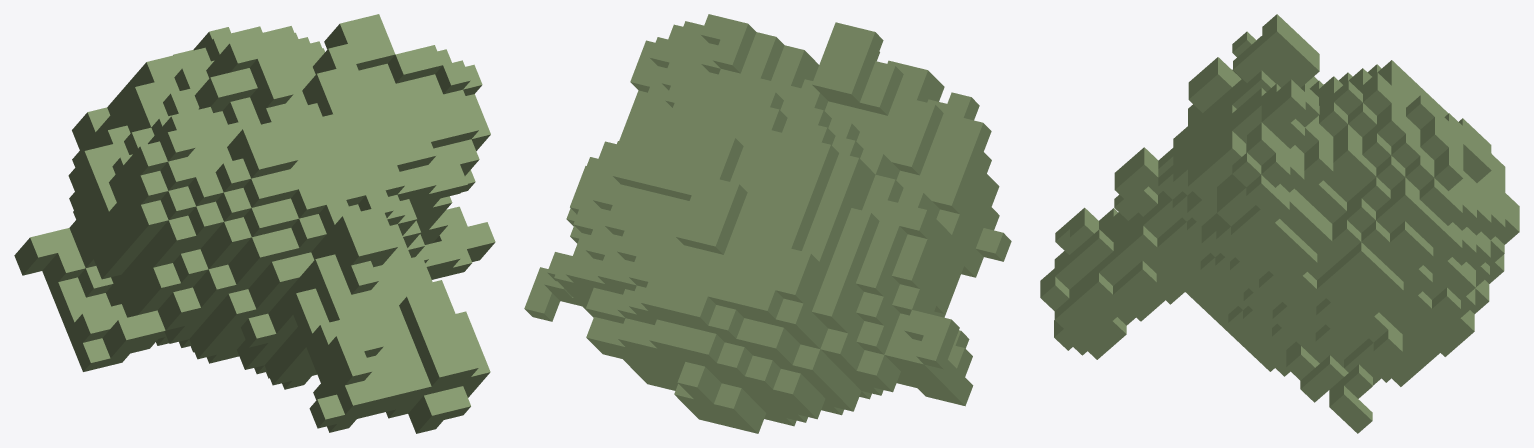
File: monkey.glb
3 renders of one model, left to right at view 1: azimuth 30°, elevation 25°; view 2: azimuth 150°, elevation 25°; view 3: azimuth 270°, elevation 25°, orthographic. The views are drawn at different scales.
Parts seen in each view (by area): view 1: Suzanne; view 2: Suzanne; view 3: Suzanne.
Boxes of the visible parts, x1,y1,x2,y2 form: Suzanne: (14, 14, 495, 433); Suzanne: (524, 14, 1011, 433); Suzanne: (1040, 14, 1519, 433).
Size of the model in its own units: 0.6548 by 0.5273 by 0.6965.
